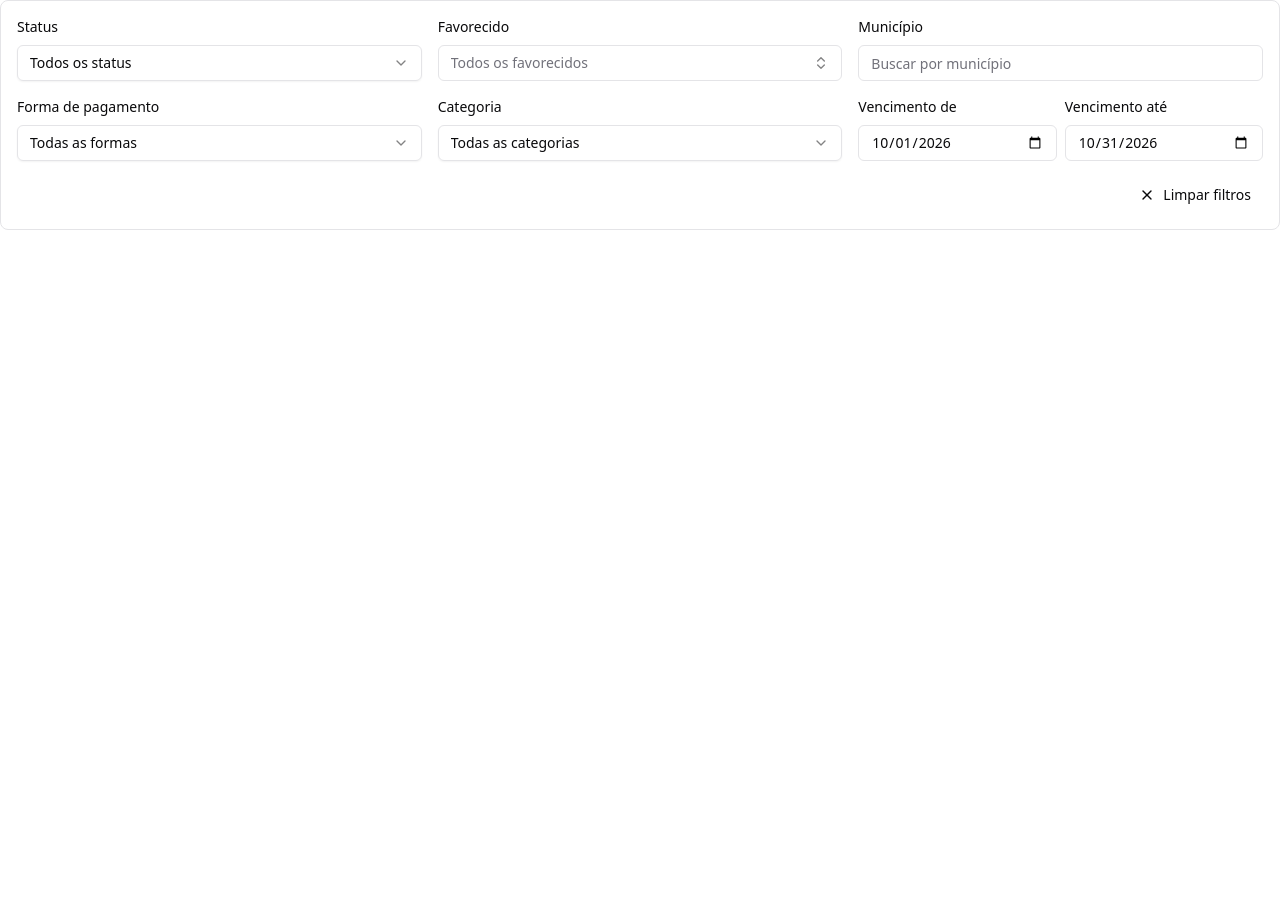
Test: ReportFilterPanel › lista as opções de categoria e favorecido vindas dos hooks, não de listas fixas
Click the dropdown with test id "filter-category": (515, 142) left=438, top=125, right=842, bottom=161
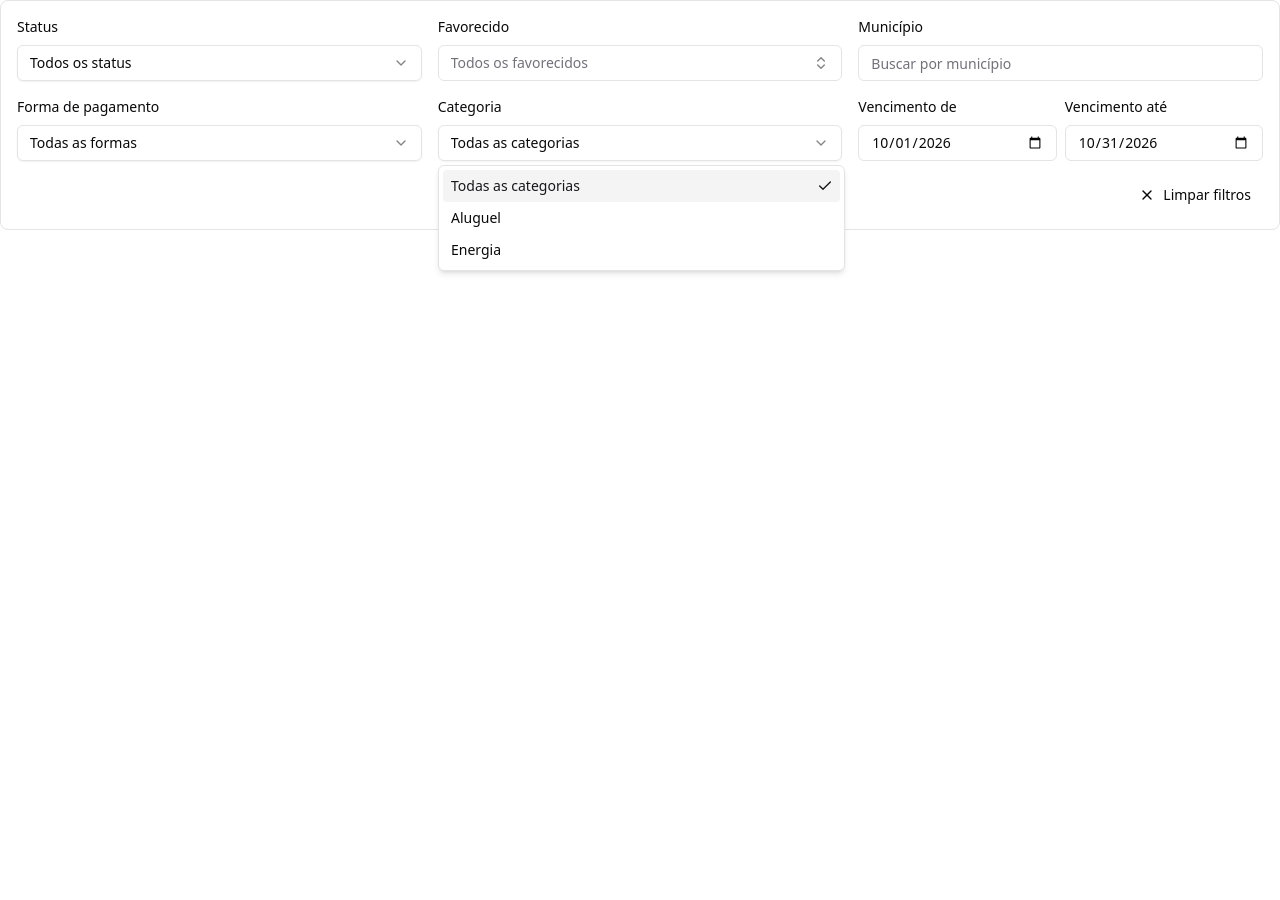
Check: the option "Aluguel" is shown
Check: the option "Energia" is shown, box left=451, top=240, right=501, bottom=259
Click the option "Aluguel": (476, 218) left=451, top=208, right=501, bottom=227
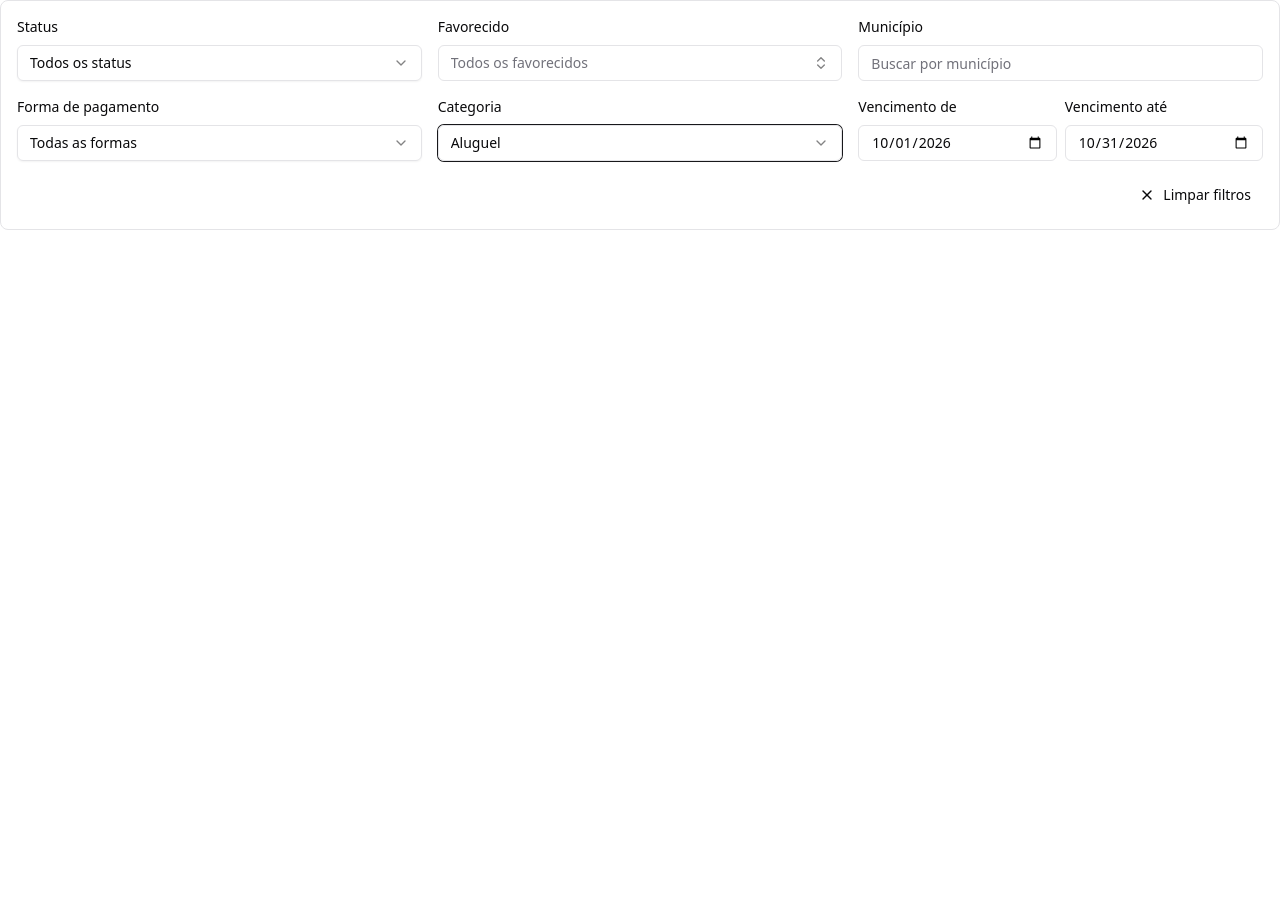
Click the dropdown labelled "favorecido": (519, 62) left=438, top=45, right=842, bottom=81
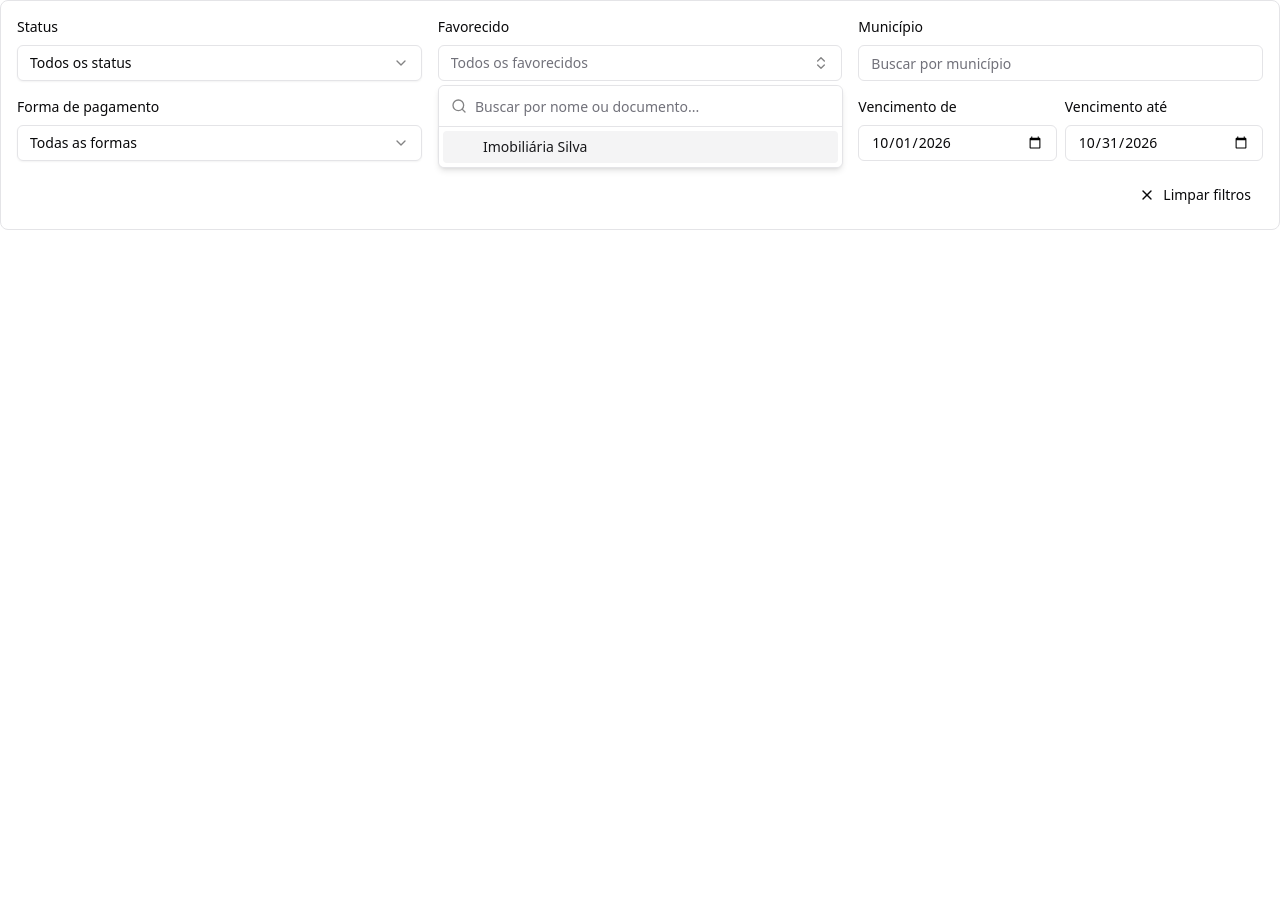
Check: the text "Imobiliária Silva" is shown, box left=483, top=137, right=587, bottom=157
